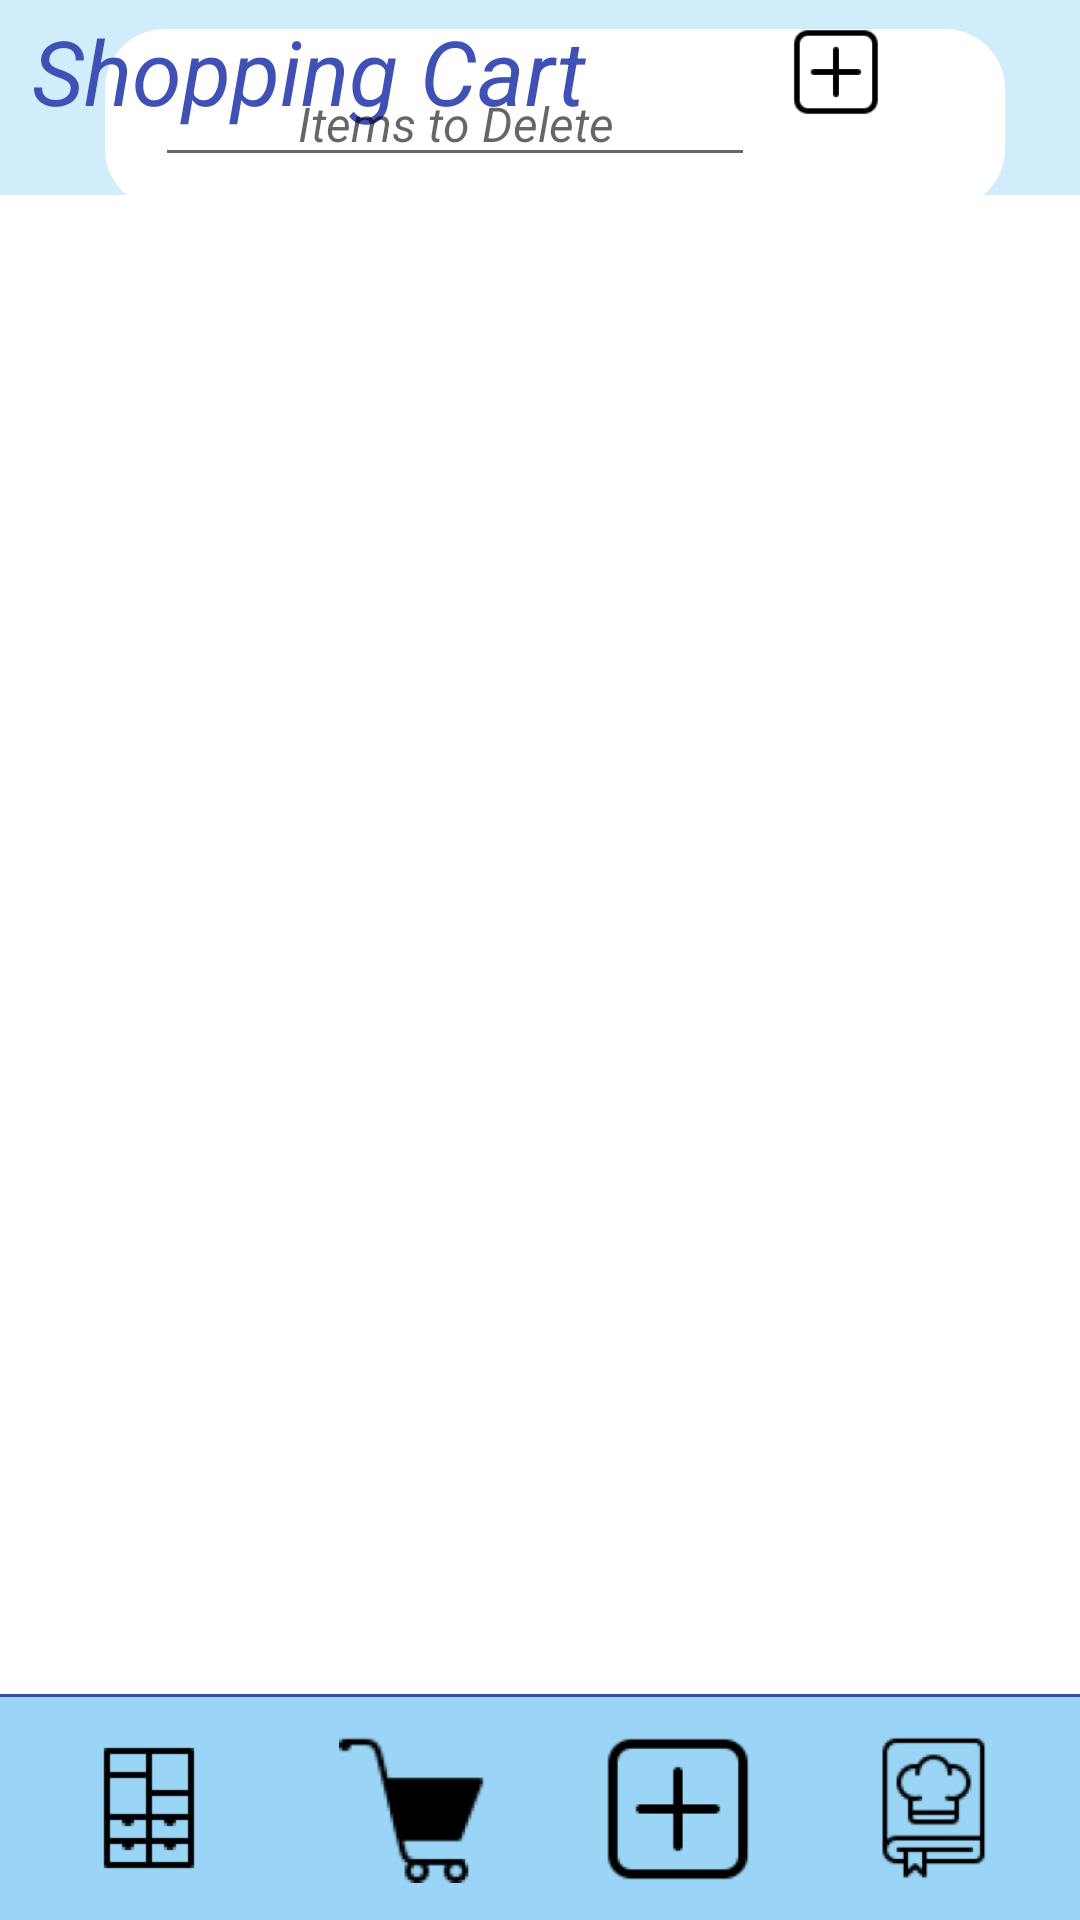

Icon bounding boxes for this 1080*1920 phone screenshot, format rect(x1, y1, x2, y2):
add: rect(794, 30, 878, 114), rect(607, 1738, 749, 1880)
cookbook: rect(882, 1738, 985, 1878)
incart: rect(339, 1738, 484, 1883)
